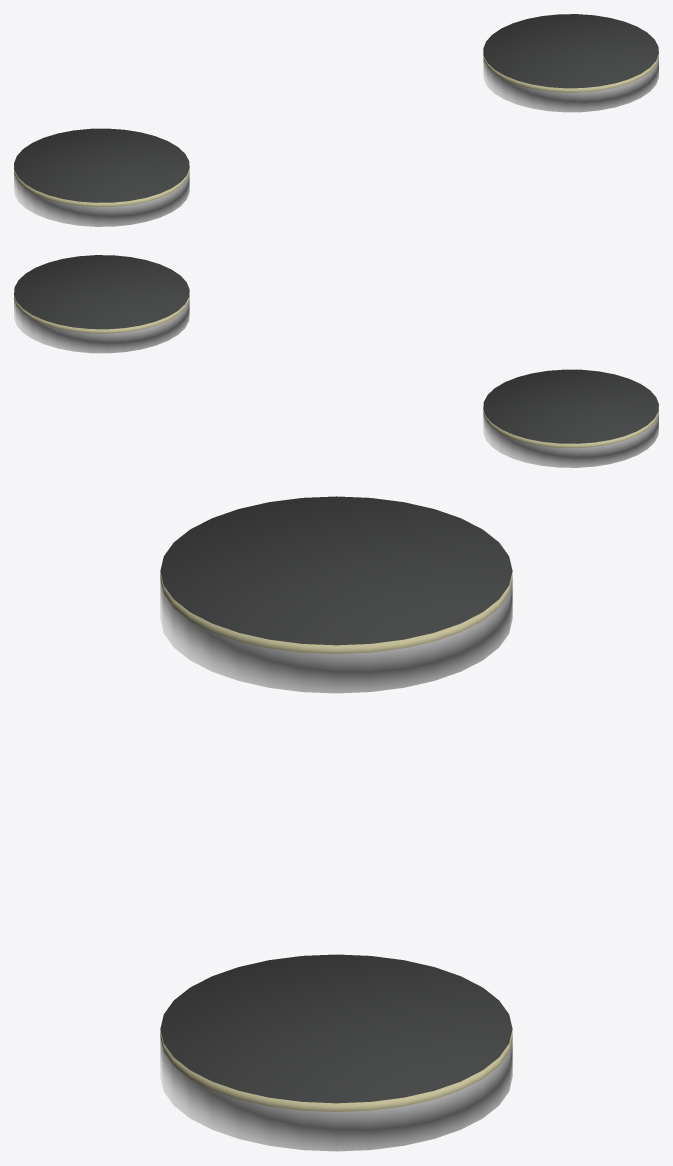
The model's file is Torres 3 pisos laterales.fbx.
The picture shows the model from 3 angles, top to bottom: view 1: azimuth 30°, elevation 25°; view 2: azimuth 150°, elevation 25°; view 3: azimuth 270°, elevation 25°; orthographic projection. The views are drawn at different scales.
Parts seen in each view (by area): view 1: Piso.002, Piso.005; view 2: Piso.002, Piso.005; view 3: Piso.002, Piso.005.
Part boxes in pixels (box(x1,y1,x2,y2)): Piso.002: box(14, 128, 189, 226); Piso.005: box(483, 14, 658, 112); Piso.002: box(483, 369, 658, 467); Piso.005: box(14, 255, 189, 353); Piso.002: box(160, 496, 512, 693); Piso.005: box(160, 954, 512, 1151).
Size of the model in its own units: 1299 by 48.1 by 319.
